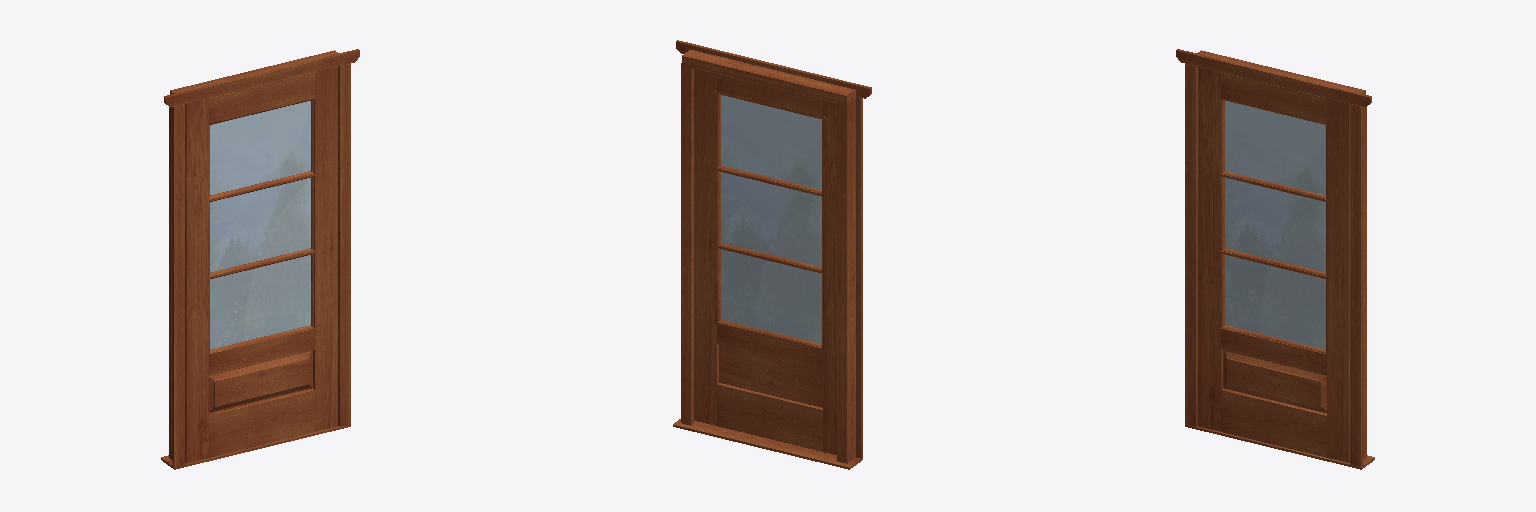
3 views of the same model, side by side, from view 1: azimuth 30°, elevation 25°; view 2: azimuth 150°, elevation 25°; view 3: azimuth 330°, elevation 25° (orthographic).
Parts seen in each view (by area): view 1: glass, door_left, door_right, door_bottom, trim_left002, trim_left001, panel_extruded001, door_top, trim_top, door_middle, box_left, muttin002 (+4 smaller); view 2: glass, door_right, box_left, door_bottom, door_left, panel_extruded001, box_top, trim_left001, box_right, stop_right, door_middle, threshold (+7 smaller); view 3: glass, door_left, door_right, door_bottom, trim_left002, trim_left001, panel_extruded001, door_top, trim_top, door_middle, box_right, muttin001 (+4 smaller).
Part boxes in pixels (x1,y1,x2,y2): glass: (210,101,310,349); door_left: (185,98,208,462); door_right: (313,67,337,431); door_bottom: (209,388,314,457); trim_left002: (338,64,350,426); trim_left001: (173,104,184,466); panel_extruded001: (209,351,312,412); door_top: (209,72,314,123); trim_top: (164,49,359,107); door_middle: (209,329,314,375); box_left: (169,107,172,460); muttin002: (311,99,314,327); glass: (721,95,821,343); door_right: (694,69,718,425); box_left: (840,97,855,463); door_bottom: (717,383,822,451); door_left: (823,101,836,454); panel_extruded001: (719,345,822,407); box_top: (682,49,855,102); trim_left001: (856,97,862,458); box_right: (681,63,687,424); stop_right: (688,64,693,425); door_middle: (717,325,822,369); threshold: (673,419,862,469); glass: (1225,101,1325,349); door_left: (1198,67,1222,431); door_right: (1327,98,1349,462); door_bottom: (1221,388,1326,457); trim_left002: (1350,104,1362,466); trim_left001: (1185,64,1197,426); panel_extruded001: (1223,351,1326,412); door_top: (1221,72,1326,123); trim_top: (1176,49,1371,107); door_middle: (1221,329,1326,375); box_right: (1363,107,1366,460); muttin001: (1221,99,1224,327).
Bounding box in the file's own units: 44.67 × 82 × 5.5.
Materials: 7 (7 with a texture image).